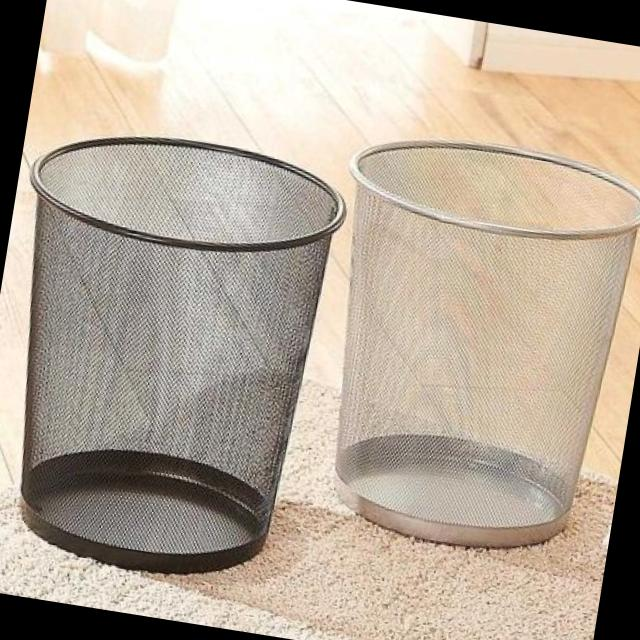dustbin: (0, 109, 359, 603), (292, 118, 640, 573)
